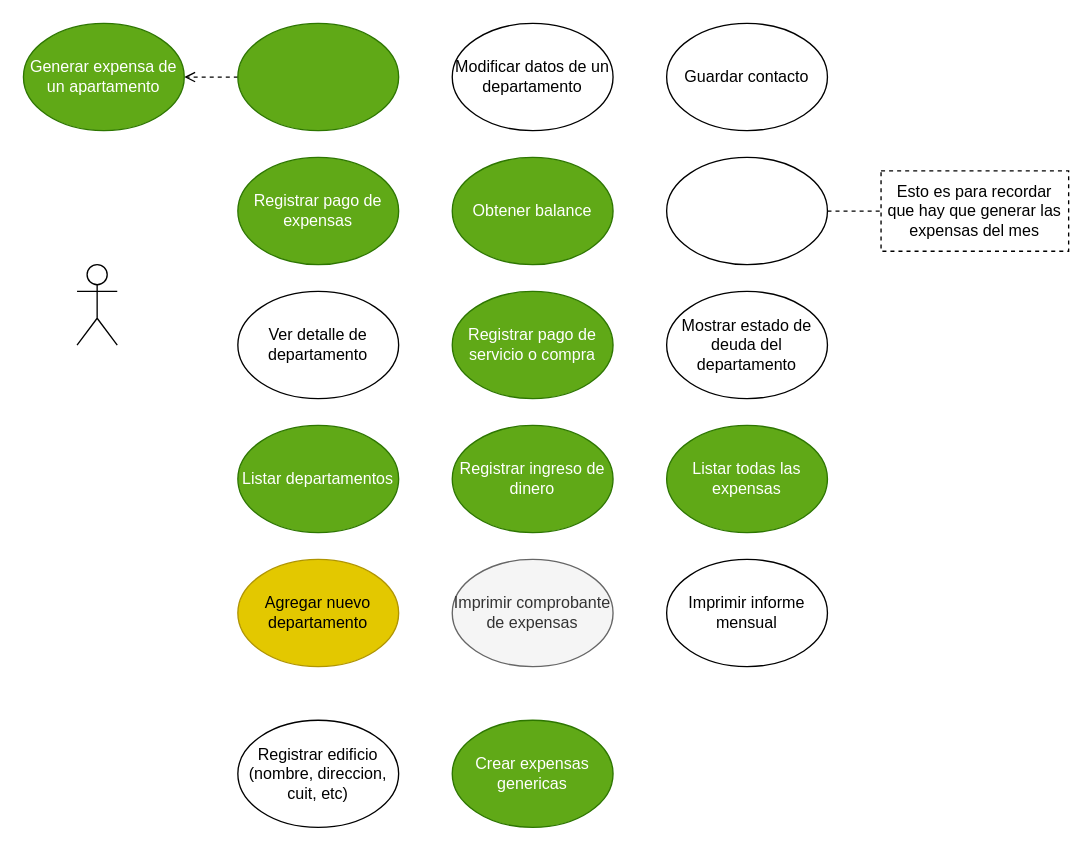
Some shapes in this 1092 by 851 pixel diagram are drawn without their labels. The box of each missing label's shape, as (x1, y1, x2, y2) in pixels:
Admin: (76, 263, 117, 345)
Emitir notificacion de generacion de expensas: (665, 156, 827, 265)
Generar expensas: (237, 22, 399, 131)
